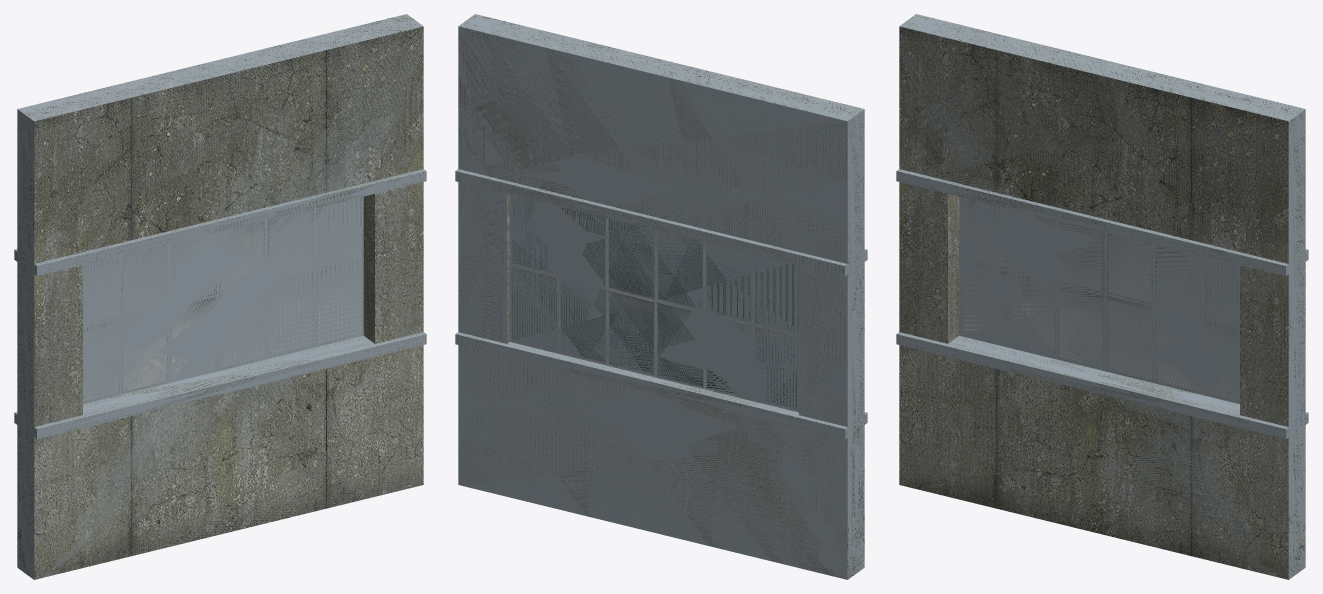
Rendered from Wall_glass.fbx.
3 renders of one model, left to right at view 1: azimuth 30°, elevation 25°; view 2: azimuth 150°, elevation 25°; view 3: azimuth 330°, elevation 25°, orthographic.
Visible parts, largest first — view 1: WallBit2_1; view 2: WallBit2_1; view 3: WallBit2_1.
Part boxes in pixels (x1=…): WallBit2_1: x1=14, y1=14, x2=426, y2=579; WallBit2_1: x1=455, y1=14, x2=867, y2=579; WallBit2_1: x1=896, y1=14, x2=1308, y2=579.
Size of the model in its own units: 4000 by 4500 by 400.
